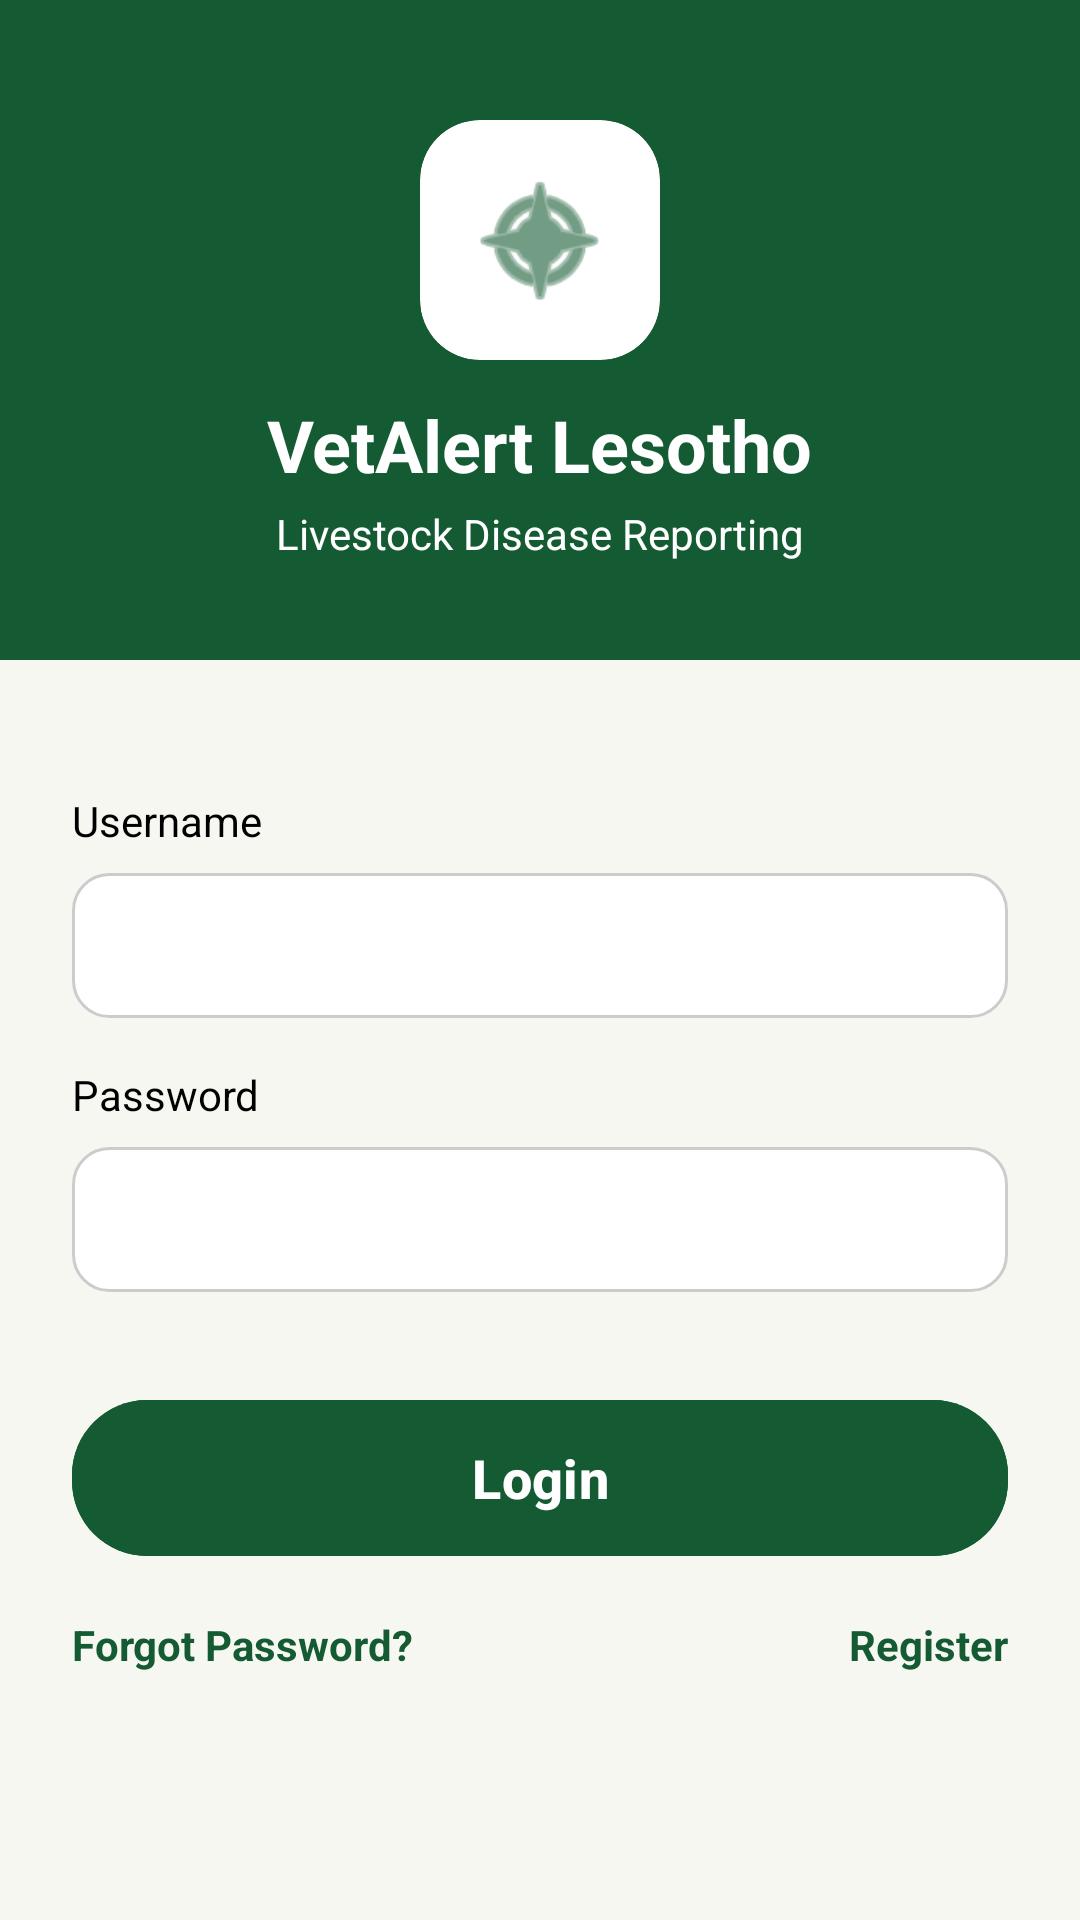

Named icons in this screenshot (1080x1920) and their centers, [x,y]:
compass: [540,240]
